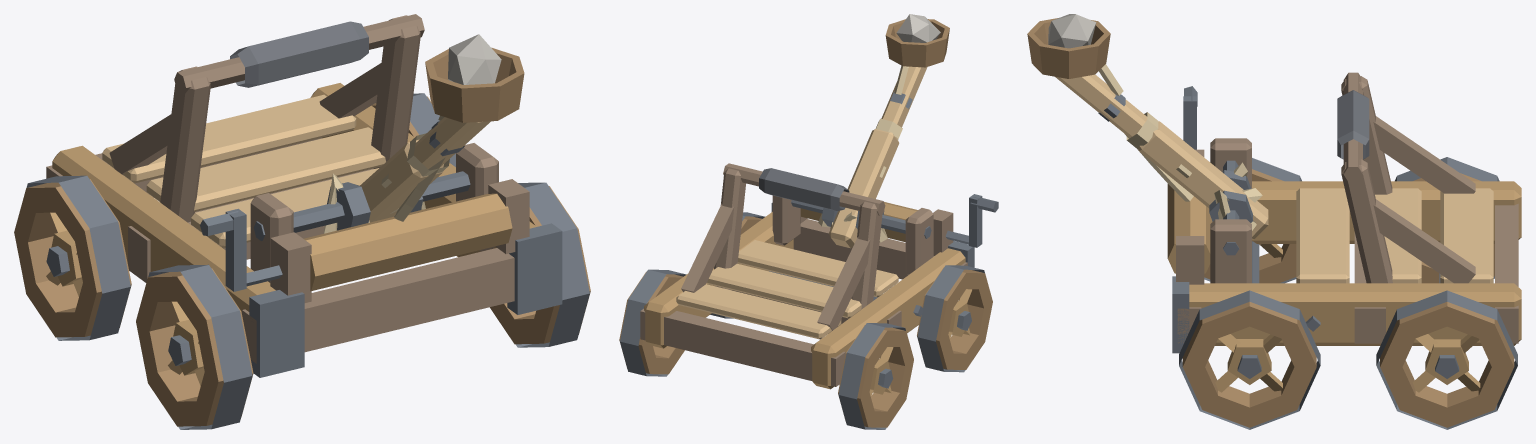
Rendered from Catapult.fbx.
The picture shows the model from 3 angles, left to right: view 1: azimuth 30°, elevation 25°; view 2: azimuth 150°, elevation 25°; view 3: azimuth 270°, elevation 25°; orthographic projection. The views are drawn at different scales.
Parts seen in each view (by area): view 1: Catapult.Frame, Catapult.Ironwork, Catapult.Timbers, Catapult.Wheels, Catapult.Deck, Catapult.StopPad, Catapult.ArmBucket, Catapult.ArmBeam, Catapult.ArmLoad, Catapult.ArmIron, Catapult.RopeBundle, Catapult.ArmRope; view 2: Catapult.Frame, Catapult.Deck, Catapult.Ironwork, Catapult.Timbers, Catapult.Wheels, Catapult.ArmBeam, Catapult.StopPad, Catapult.ArmBucket, Catapult.ArmLoad, Catapult.ArmRope, Catapult.ArmIron; view 3: Catapult.Timbers, Catapult.Frame, Catapult.Wheels, Catapult.Deck, Catapult.Ironwork, Catapult.ArmBeam, Catapult.ArmBucket, Catapult.StopPad, Catapult.ArmLoad, Catapult.ArmIron, Catapult.RopeBundle, Catapult.ArmRope.
Part boxes in pixels (x1,y1,x2,y2): Catapult.Frame: (46, 14, 529, 363); Catapult.Ironwork: (26, 93, 589, 429); Catapult.Timbers: (46, 83, 536, 385); Catapult.Wheels: (14, 96, 590, 426); Catapult.Deck: (102, 94, 385, 248); Catapult.StopPad: (230, 21, 368, 87); Catapult.ArmBucket: (425, 47, 524, 122); Catapult.ArmBeam: (360, 117, 490, 222); Catapult.ArmLoad: (448, 34, 501, 84); Catapult.ArmIron: (327, 121, 464, 230); Catapult.RopeBundle: (323, 157, 445, 233); Catapult.ArmRope: (381, 115, 449, 188); Catapult.Frame: (640, 163, 967, 386); Catapult.Deck: (676, 240, 898, 339); Catapult.Ironwork: (620, 194, 998, 429); Catapult.Timbers: (644, 202, 971, 396); Catapult.Wheels: (619, 216, 992, 427); Catapult.ArmBeam: (829, 66, 927, 248); Catapult.StopPad: (759, 168, 849, 210); Catapult.ArmBucket: (885, 19, 949, 67); Catapult.ArmLoad: (896, 14, 940, 42); Catapult.ArmRope: (876, 65, 908, 177); Catapult.ArmIron: (821, 91, 912, 229); Catapult.Timbers: (1167, 181, 1521, 392); Catapult.Frame: (1176, 72, 1518, 343); Catapult.Wheels: (1182, 169, 1514, 427); Catapult.Deck: (1296, 188, 1493, 283); Catapult.Ironwork: (1172, 86, 1517, 429); Catapult.ArmBeam: (1055, 74, 1268, 239); Catapult.ArmBucket: (1027, 18, 1110, 78); Catapult.StopPad: (1337, 90, 1369, 159); Catapult.ArmLoad: (1048, 14, 1096, 48); Catapult.ArmIron: (1098, 94, 1252, 222); Catapult.RopeBundle: (1125, 134, 1262, 230); Catapult.ArmRope: (1099, 64, 1191, 177).
Size of the model in its own units: 4.82 by 5.14 by 6.64.
